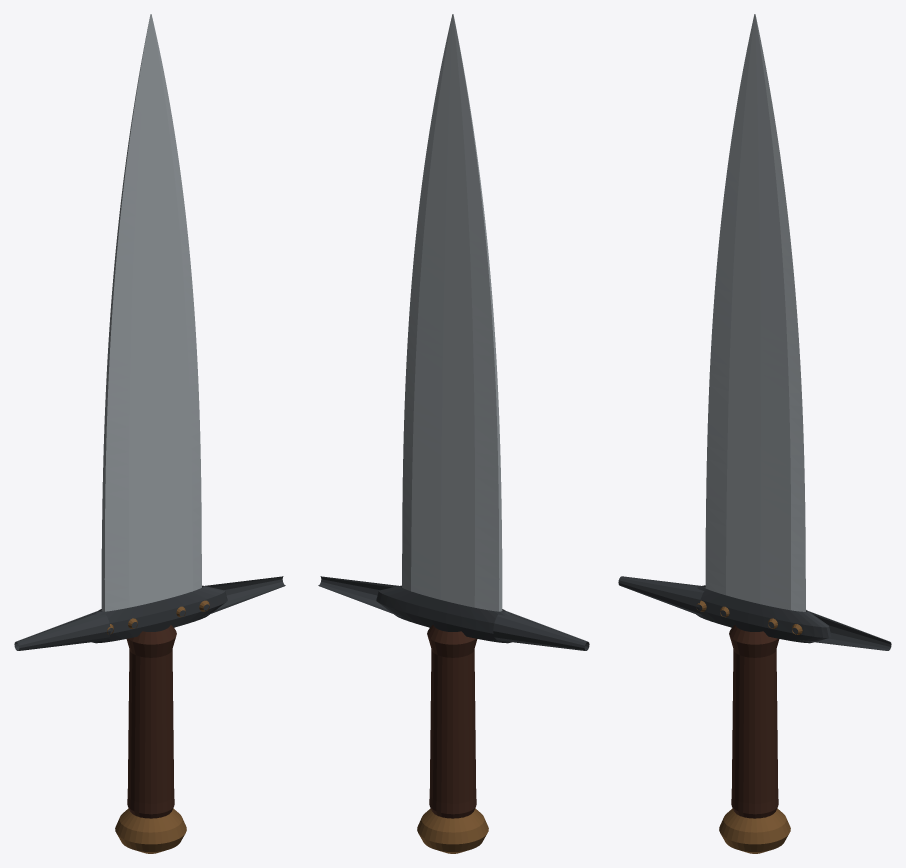
File: SM_VeilOrderRitualBlade_v01.obj
The picture shows the model from 3 angles, left to right: view 1: azimuth 30°, elevation 25°; view 2: azimuth 150°, elevation 25°; view 3: azimuth 330°, elevation 25°; orthographic projection.
Parts seen in each view (by area): view 1: SM_VeilOrderRitualBlade_v01; view 2: SM_VeilOrderRitualBlade_v01; view 3: SM_VeilOrderRitualBlade_v01.
Part boxes in pixels (x1,y1,x2,y2): SM_VeilOrderRitualBlade_v01: (14,14,285,853); SM_VeilOrderRitualBlade_v01: (318,14,589,853); SM_VeilOrderRitualBlade_v01: (618,14,891,853).
Size of the model in its own units: 56 by 167 by 13.
